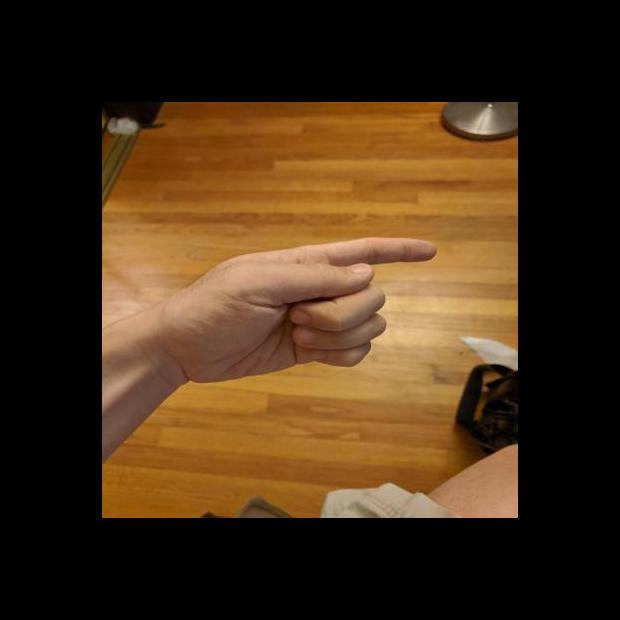F: (168, 234, 442, 386)
